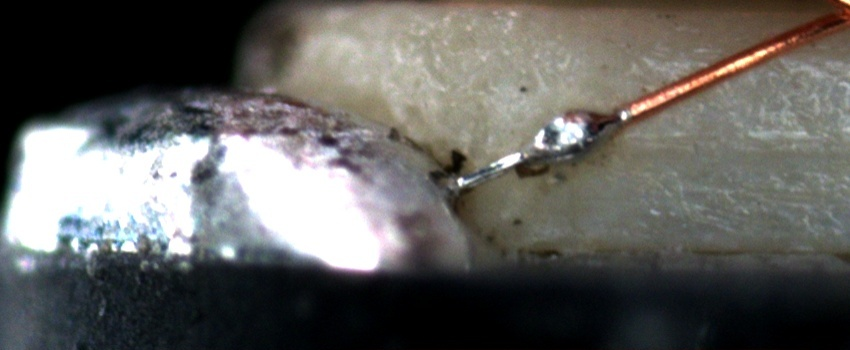DL: (638, 106, 850, 170), (658, 35, 850, 99), (647, 173, 850, 212)
TB: (523, 100, 624, 164)
TS: (452, 110, 629, 191)
TTCW: (436, 78, 686, 196)
